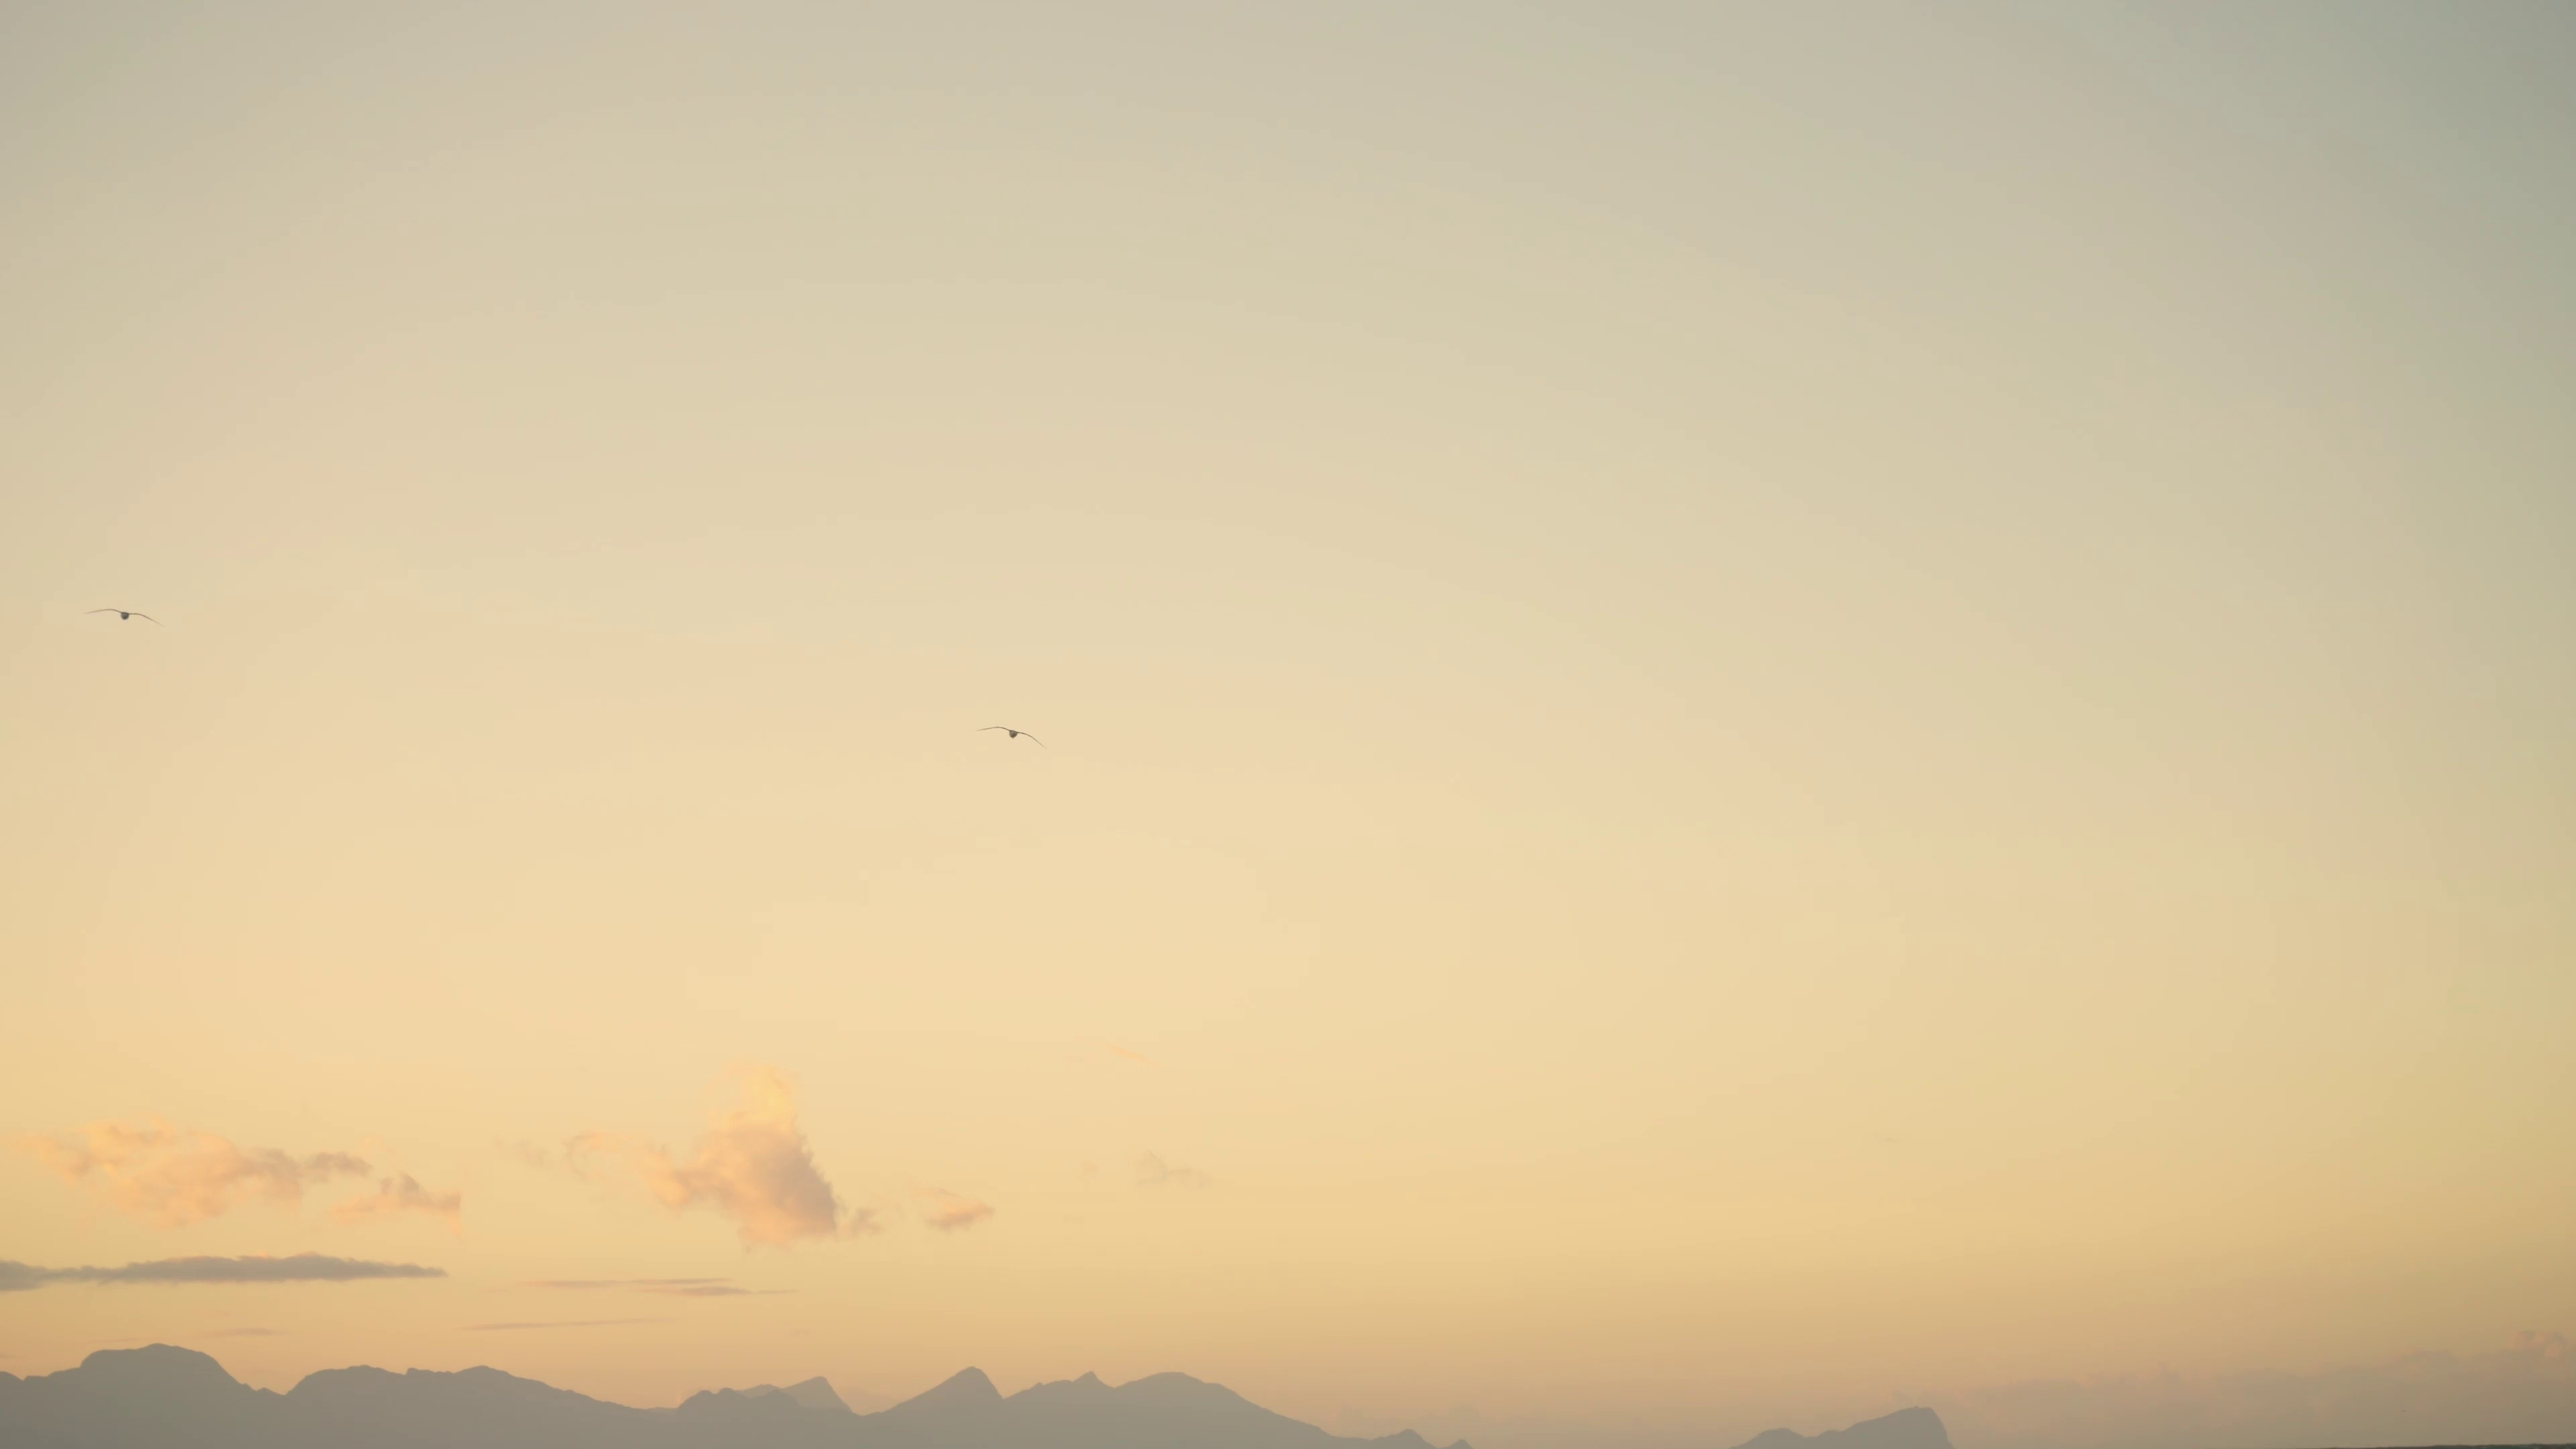bird: (977, 727, 1040, 747), (83, 609, 159, 625)
